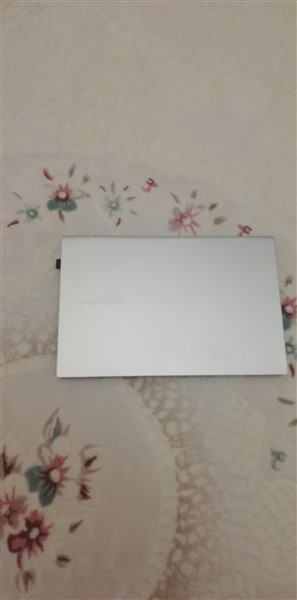laptop: (49, 226, 297, 386)
